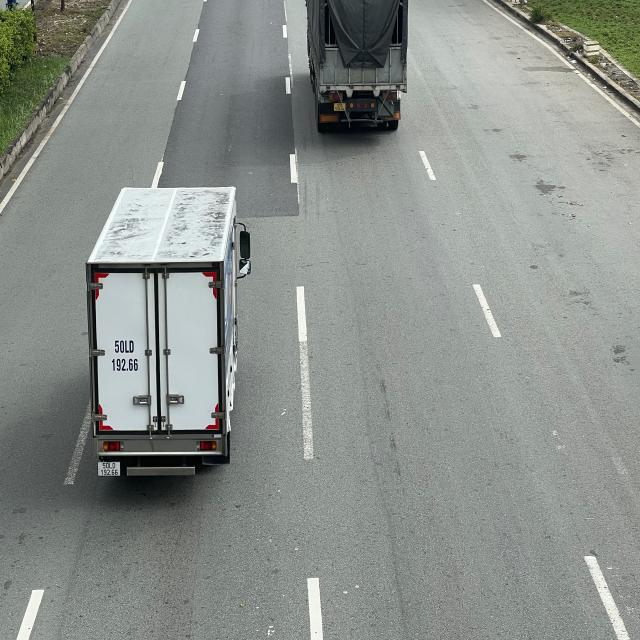truck: (86, 185, 252, 481), (307, 0, 410, 132)
